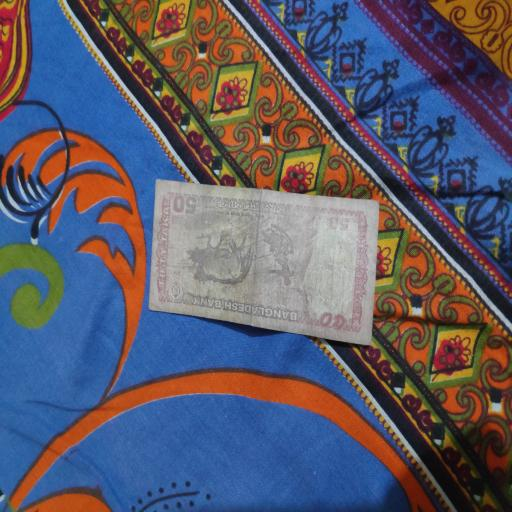50taka: (149, 178, 379, 344)
